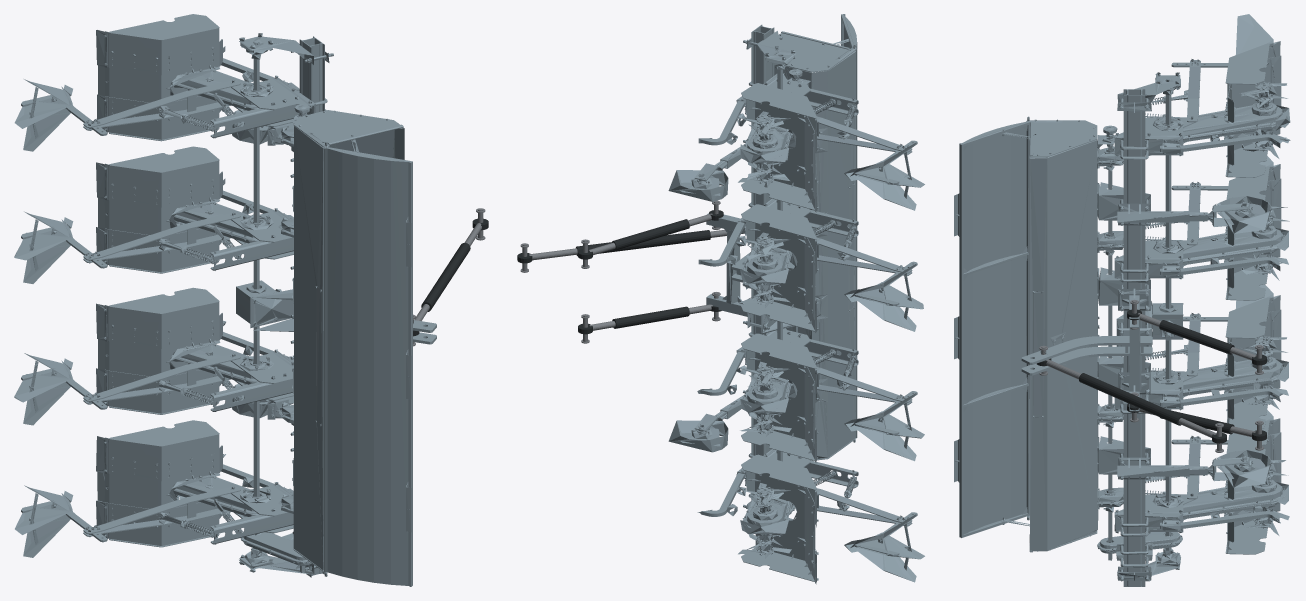
File: implement_inter_row_milling_cutter_visual.obj
3 renders of one model, left to right at view 1: azimuth 30°, elevation 25°; view 2: azimuth 150°, elevation 25°; view 3: azimuth 270°, elevation 25°, orthographic. The views are drawn at different scales.
Parts seen in each view (by area): view 1: solid_2715, solid_2696, solid_1089, solid_444, solid_2375, solid_1732, solid_1048, solid_2334, solid_403, solid_2698, solid_393, solid_1038 (+43 smaller); view 2: solid_2696, solid_1038, solid_2324, solid_393, solid_2698, solid_1681, solid_1088, solid_2374, solid_443, solid_1731, solid_2986, solid_2868 (+36 smaller); view 3: solid_2696, solid_2715, solid_0, solid_2718, solid_2698, solid_74, solid_2005, solid_719, solid_2634, solid_4, solid_3, solid_1362 (+47 smaller).
Boxes of the visible parts, x1=… form: solid_2715: x1=324, y1=148, x2=411, y2=586; solid_2696: x1=293, y1=126, x2=404, y2=570; solid_1089: x1=105, y1=302, x2=219, y2=348; solid_444: x1=105, y1=434, x2=219, y2=481; solid_2375: x1=105, y1=161, x2=219, y2=207; solid_1732: x1=105, y1=28, x2=219, y2=75; solid_1048: x1=105, y1=369, x2=219, y2=413; solid_2334: x1=105, y1=228, x2=219, y2=272; solid_403: x1=105, y1=502, x2=219, y2=545; solid_2698: x1=294, y1=110, x2=403, y2=146; solid_393: x1=105, y1=445, x2=222, y2=519; solid_1038: x1=105, y1=313, x2=222, y2=389; solid_2696: x1=774, y1=51, x2=855, y2=458; solid_1038: x1=746, y1=350, x2=815, y2=448; solid_2324: x1=746, y1=221, x2=815, y2=319; solid_393: x1=746, y1=471, x2=815, y2=570; solid_2698: x1=778, y1=31, x2=855, y2=72; solid_1681: x1=746, y1=99, x2=815, y2=198; solid_1088: x1=741, y1=333, x2=816, y2=368; solid_2374: x1=741, y1=204, x2=816, y2=239; solid_443: x1=741, y1=454, x2=816, y2=490; solid_1731: x1=741, y1=83, x2=816, y2=118; solid_2986: x1=668, y1=420, x2=728, y2=452; solid_2868: x1=668, y1=170, x2=728, y2=201; solid_2696: x1=1029, y1=140, x2=1098, y2=550; solid_2715: x1=959, y1=121, x2=1026, y2=537; solid_0: x1=1127, y1=89, x2=1141, y2=586; solid_2718: x1=960, y1=122, x2=1029, y2=537; solid_2698: x1=1029, y1=120, x2=1097, y2=157; solid_74: x1=1159, y1=479, x2=1286, y2=515; solid_2005: x1=1159, y1=225, x2=1286, y2=261; solid_719: x1=1159, y1=356, x2=1287, y2=392; solid_2634: x1=1165, y1=94, x2=1171, y2=553; solid_4: x1=1123, y1=94, x2=1127, y2=586; solid_3: x1=1141, y1=94, x2=1145, y2=586; solid_1362: x1=1161, y1=102, x2=1282, y2=138.
Bounding box in the file's own units: 2.72 × 3 × 1.87.
